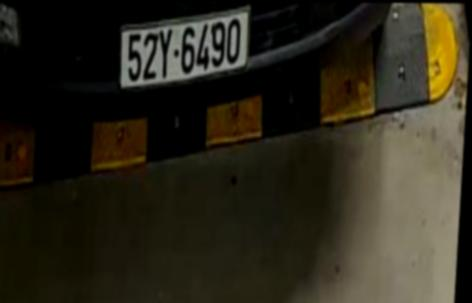License_Plate: (116, 12, 255, 83)
